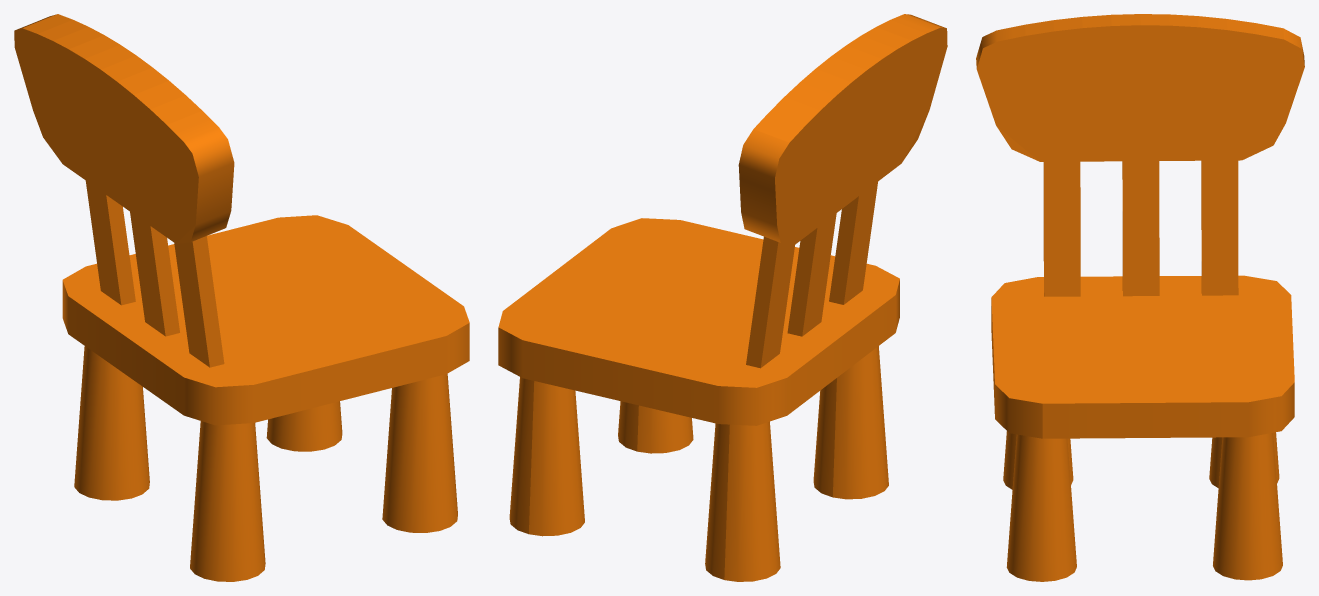
Rendered from Chair_Toddler_1_Orange_Mesh.fbx.
The picture shows the model from 3 angles, left to right: view 1: azimuth 30°, elevation 25°; view 2: azimuth 150°, elevation 25°; view 3: azimuth 270°, elevation 25°; orthographic projection. The views are drawn at different scales.
Visible parts, largest first — view 1: Chair1_Orange; view 2: Chair1_Orange; view 3: Chair1_Orange.
Part boxes in pixels (x1,y1,x2,y2): Chair1_Orange: [14, 14, 469, 581]; Chair1_Orange: [498, 14, 947, 581]; Chair1_Orange: [976, 14, 1304, 581].
Size of the model in its own units: 101 by 148 by 101.
